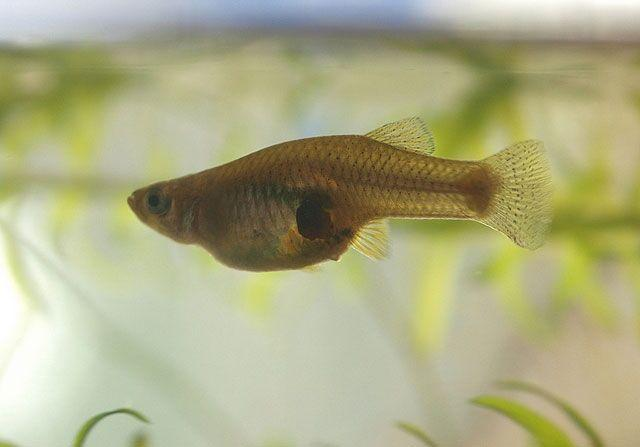Mosquito Fish: (129, 116, 557, 278)
